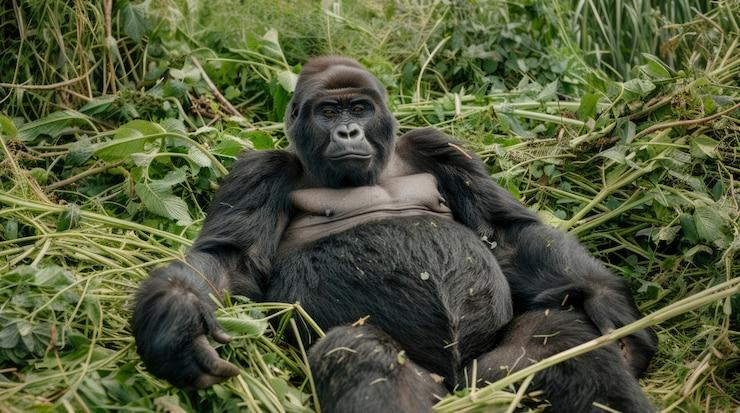gorille_Autres: (128, 35, 645, 413)
